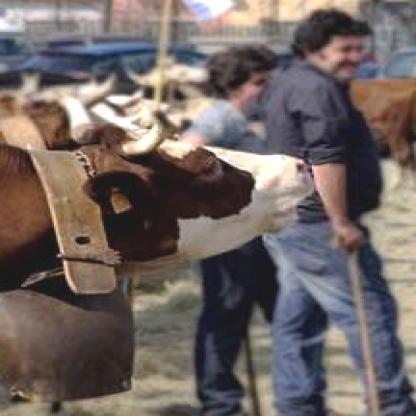cow: (2, 106, 314, 296)
